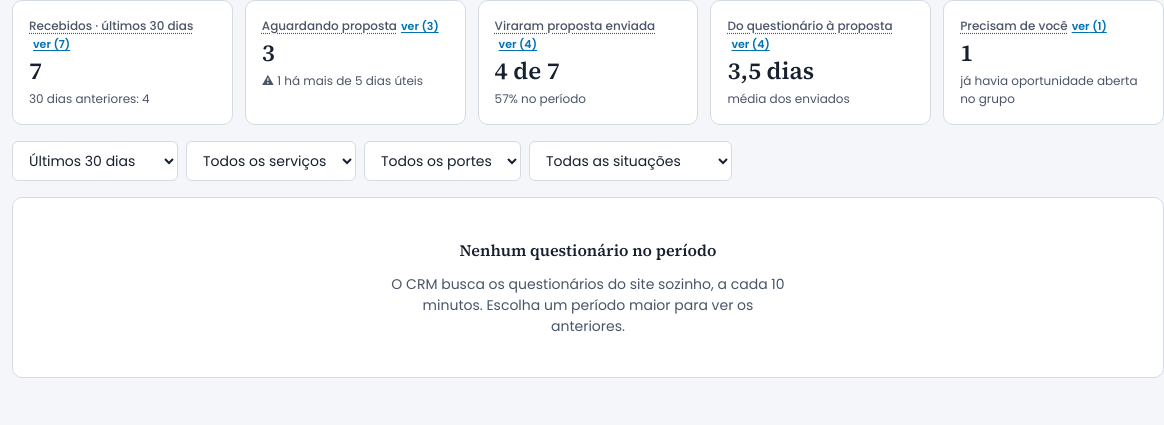
Questionários › sem nenhum questionário explica de onde eles vêm; com filtro, oferece limpar
Expected: the heading "Nenhum questionário no período" is shown, [460,238,716,262]
Select "Aceita" in the dropdown named "Situação". click: x=630, y=161
box: [529,141,732,181]
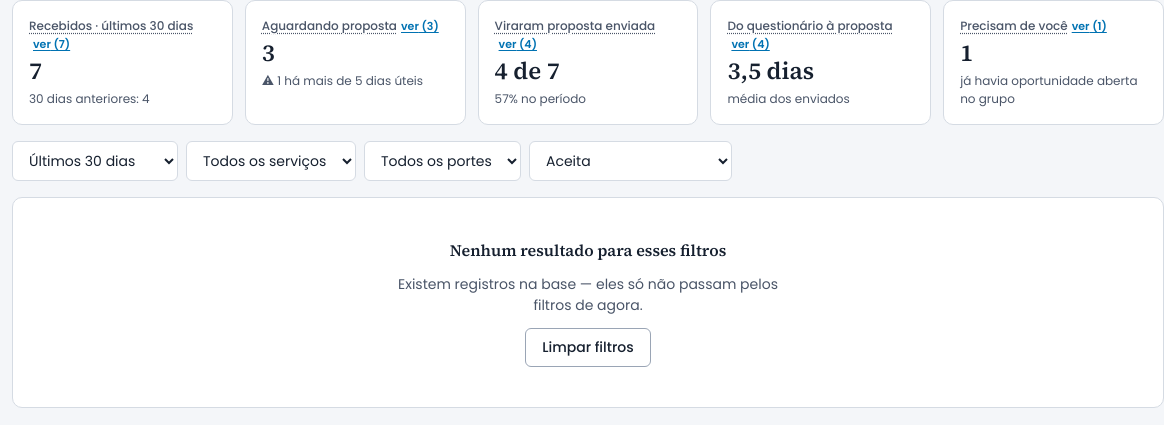
Expected: the button "Limpar filtros" is shown, [525,328,651,367]
